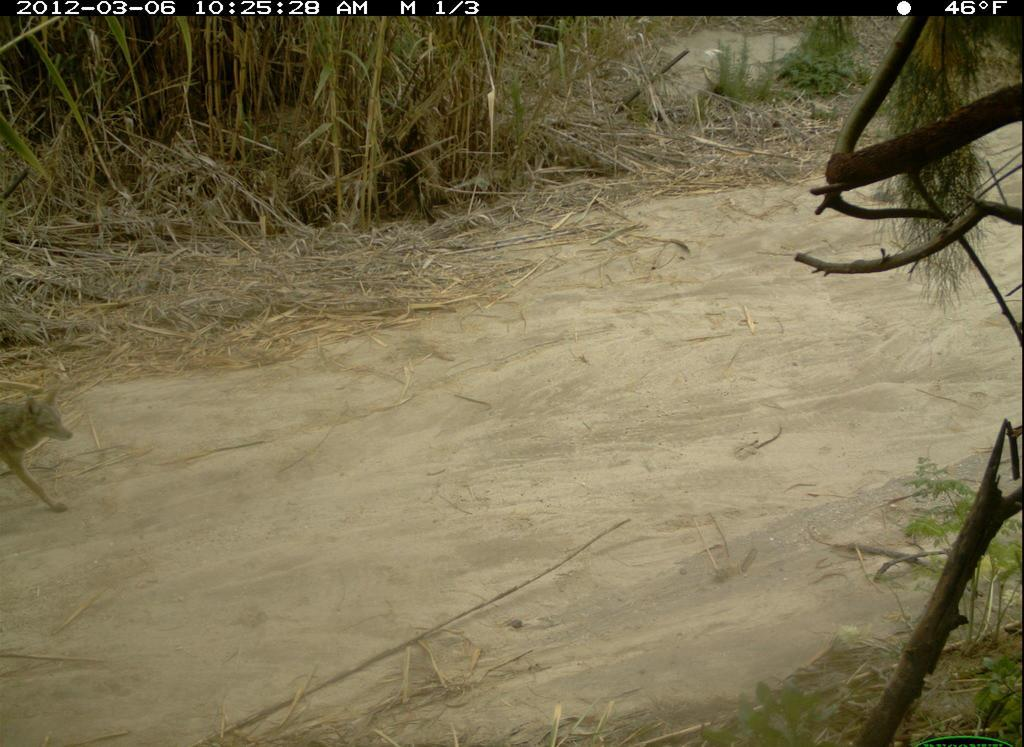coyote: (1, 370, 81, 520)
